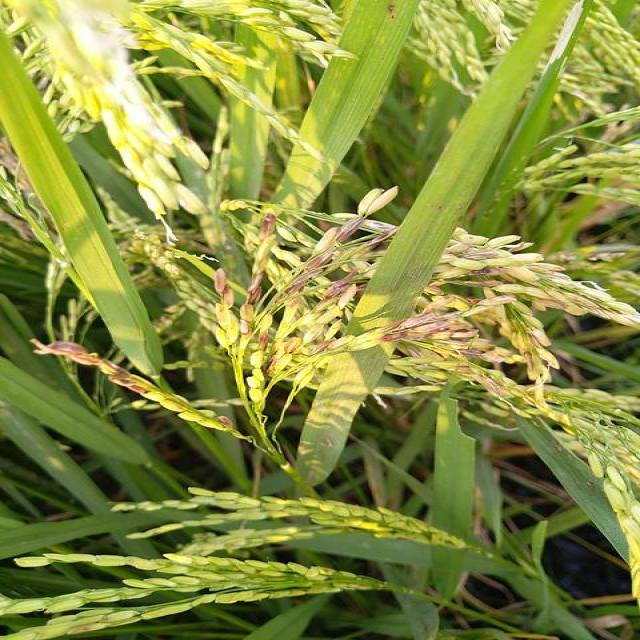Leaf Streak: (316, 426, 341, 459), (384, 0, 403, 22)
Panicle Blight: (29, 339, 131, 376), (284, 253, 331, 296), (319, 267, 360, 303), (403, 313, 449, 340), (365, 221, 401, 249), (465, 288, 516, 307), (213, 269, 235, 310), (459, 346, 512, 363), (107, 376, 151, 395), (335, 218, 365, 244), (532, 291, 569, 312), (445, 313, 476, 338), (525, 263, 569, 280), (305, 329, 333, 355), (421, 295, 459, 314), (563, 293, 600, 312), (479, 374, 508, 397), (381, 319, 408, 343), (245, 273, 263, 306), (521, 351, 539, 382), (259, 211, 277, 240), (239, 303, 253, 340), (161, 399, 195, 414), (424, 279, 447, 297), (352, 283, 368, 308), (531, 329, 552, 348), (461, 249, 497, 260), (465, 267, 508, 276), (445, 241, 472, 255), (72, 624, 108, 634), (284, 337, 304, 354), (509, 241, 535, 254), (461, 281, 505, 288), (311, 303, 328, 320), (453, 363, 477, 375), (260, 357, 275, 374), (216, 416, 233, 430), (259, 331, 268, 351), (292, 308, 303, 322), (272, 297, 281, 306), (289, 300, 300, 306)
